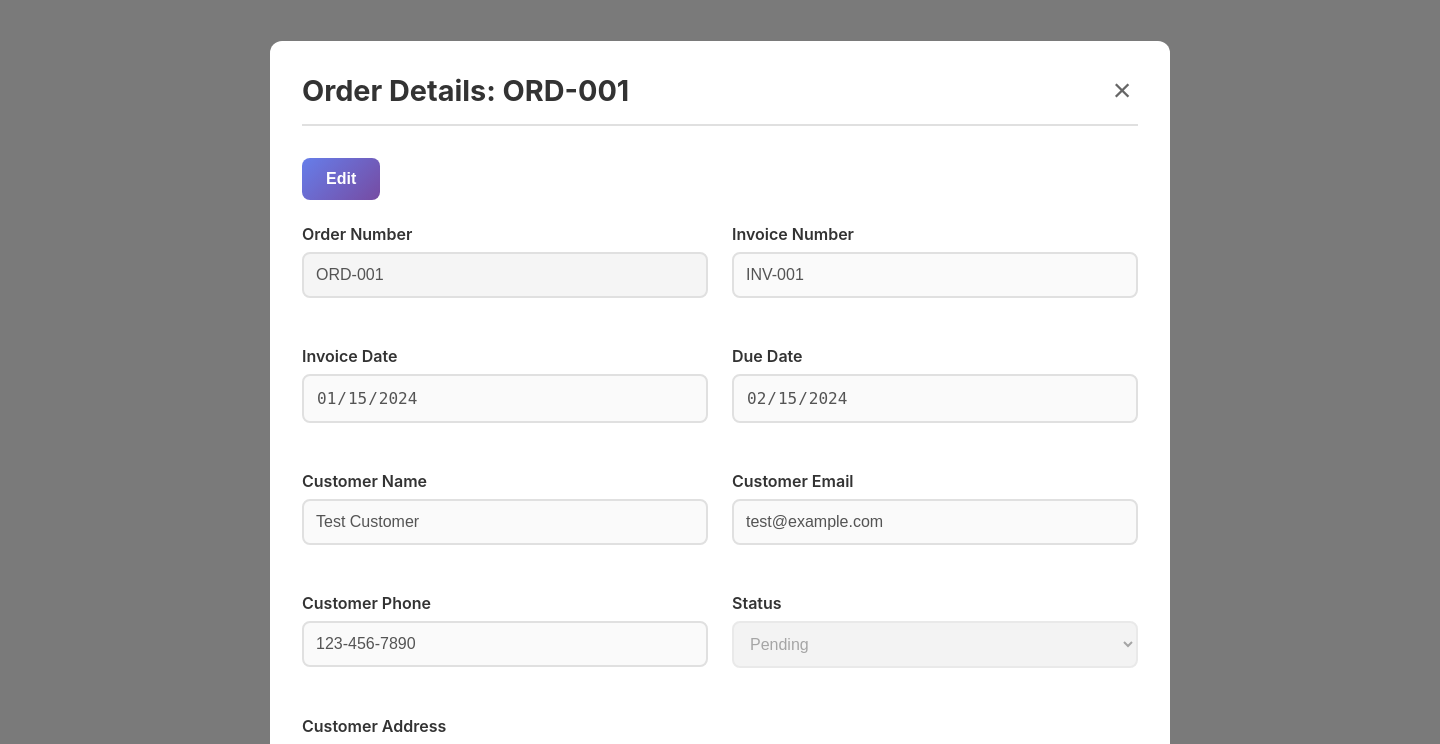
OrderDetail Component › opens edit mode when Edit button is clicked
Click the button "Edit" at (341, 178), box [302,158,380,200]
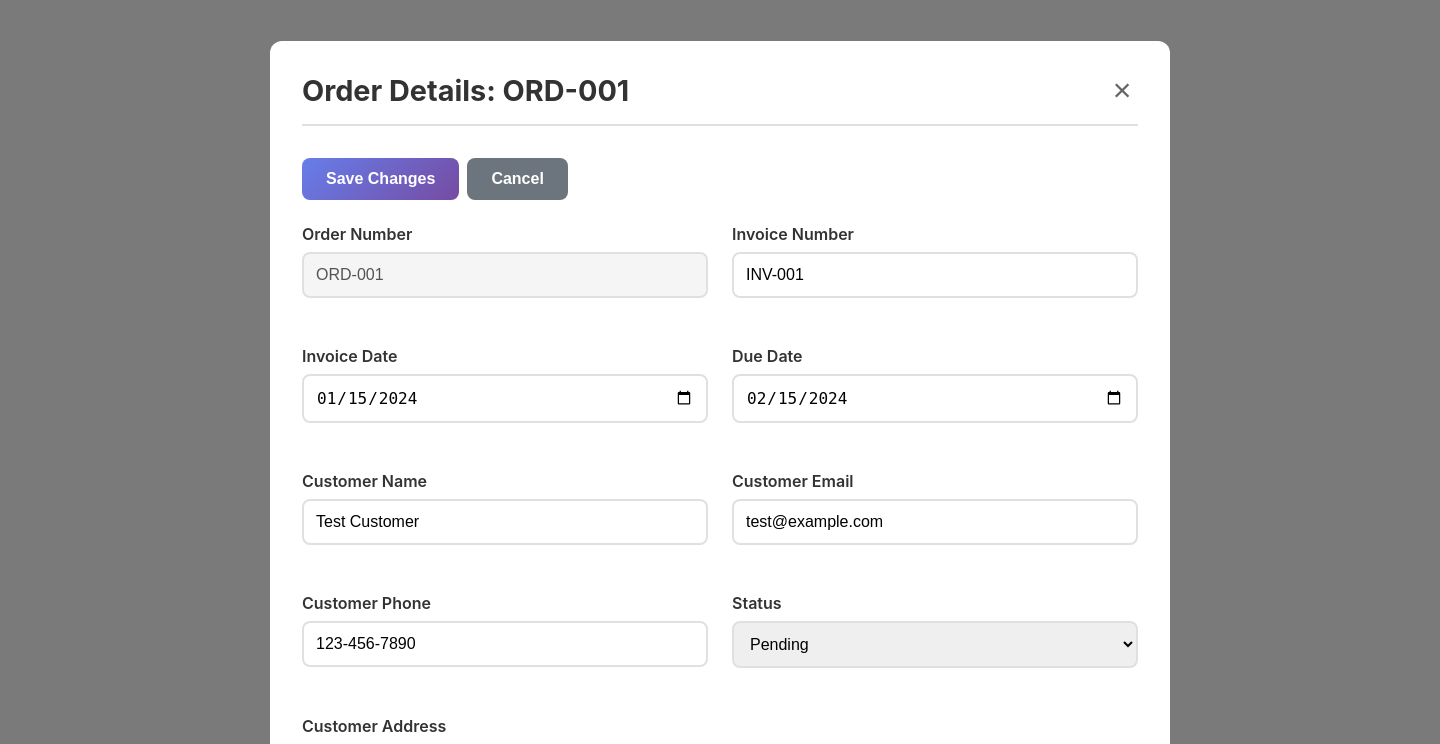
Now the button "Save Changes" is shown, box [302,158,459,200]
Now the button "Cancel" is shown, box [467,158,568,200]
